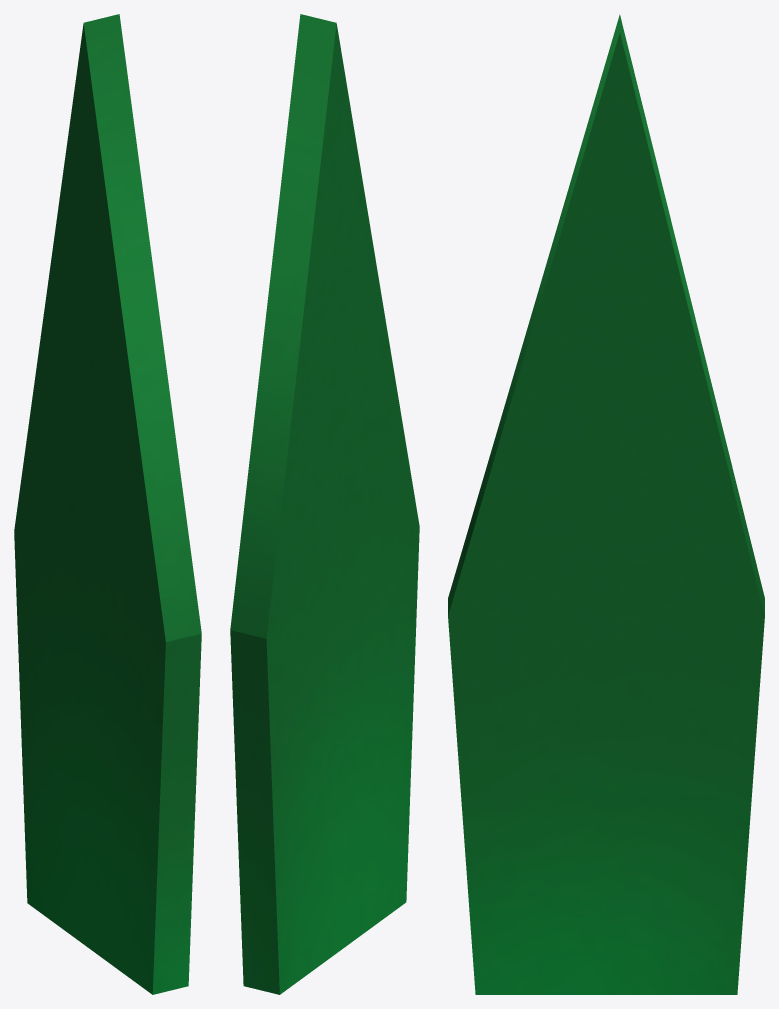
Rendered from grass.fbx.
3 renders of one model, left to right at view 1: azimuth 30°, elevation 25°; view 2: azimuth 150°, elevation 25°; view 3: azimuth 270°, elevation 25°, orthographic. The views are drawn at different scales.
Visible parts, largest first — view 1: pCube8; view 2: pCube8; view 3: pCube8.
Boxes of the visible parts, x1,y1,x2,y2 form: pCube8: [14, 14, 201, 994]; pCube8: [230, 14, 419, 994]; pCube8: [448, 14, 764, 994].
Bounding box in the file's own units: 0.019 × 0.4667 × 0.1393.
